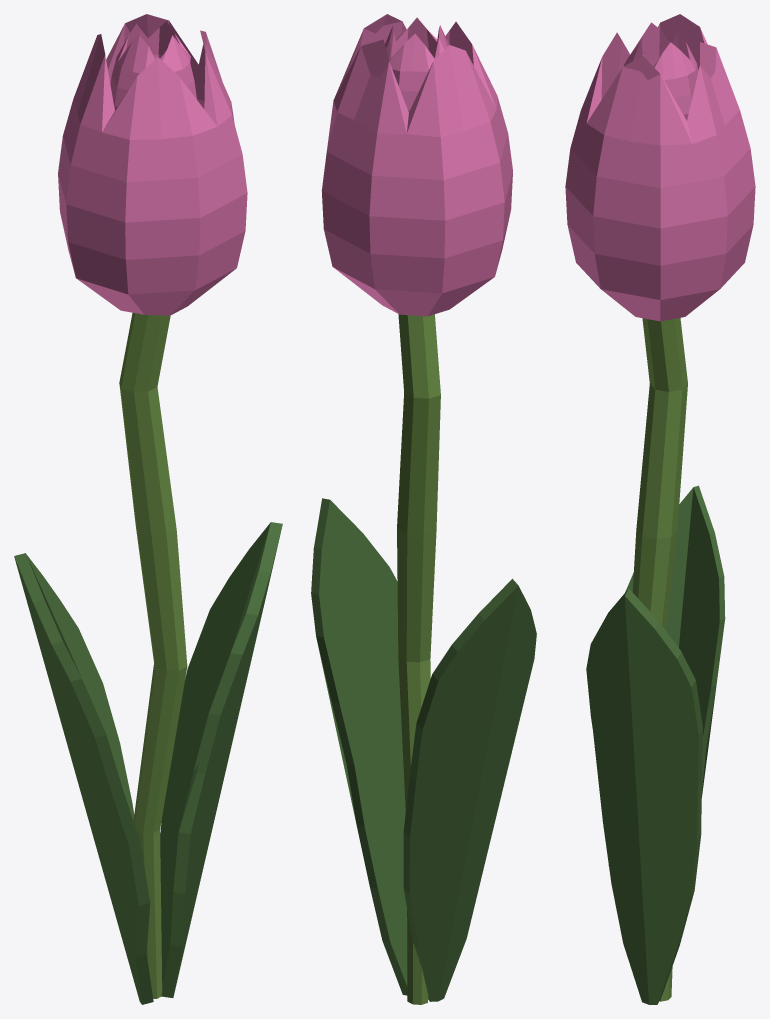
The model's file is Tulp_roze.fbx.
3 views of the same model, side by side, from view 1: azimuth 30°, elevation 25°; view 2: azimuth 150°, elevation 25°; view 3: azimuth 270°, elevation 25° (orthographic).
Visible parts, largest first — view 1: Tulp_roze; view 2: Tulp_roze; view 3: Tulp_roze.
Part boxes in pixels (left/top/right/bottom): Tulp_roze: left=14, top=14, right=282, bottom=1004; Tulp_roze: left=311, top=14, right=536, bottom=1004; Tulp_roze: left=565, top=14, right=755, bottom=1004.
Size of the model in its own units: 5.02 by 20.03 by 3.57.
